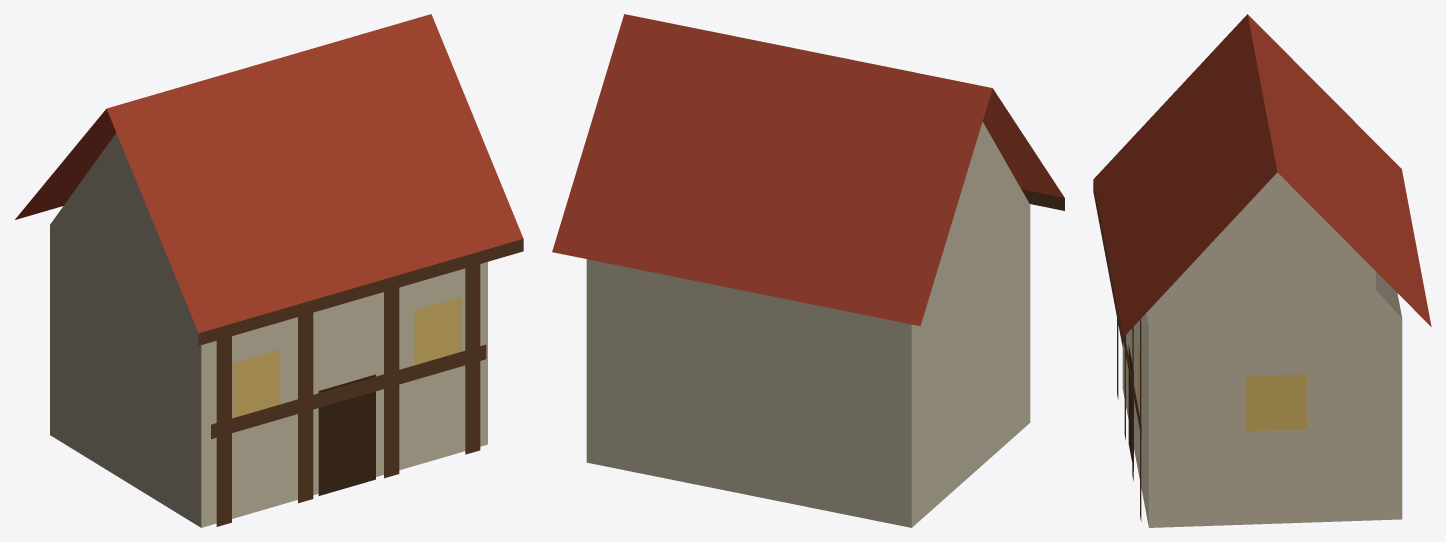
Rendered from house2.glb.
3 renders of one model, left to right at view 1: azimuth 30°, elevation 25°; view 2: azimuth 150°, elevation 25°; view 3: azimuth 270°, elevation 25°, orthographic. The views are drawn at different scales.
Visible parts, largest first — view 1: prop_house2; view 2: prop_house2; view 3: prop_house2.
Part boxes in pixels (box(x1,y1,x2,y2)): prop_house2: box(15, 14, 523, 527); prop_house2: box(552, 14, 1064, 527); prop_house2: box(1093, 14, 1431, 527).
Bounding box in the file's own units: 0.3612 × 0.36 × 0.3061.
